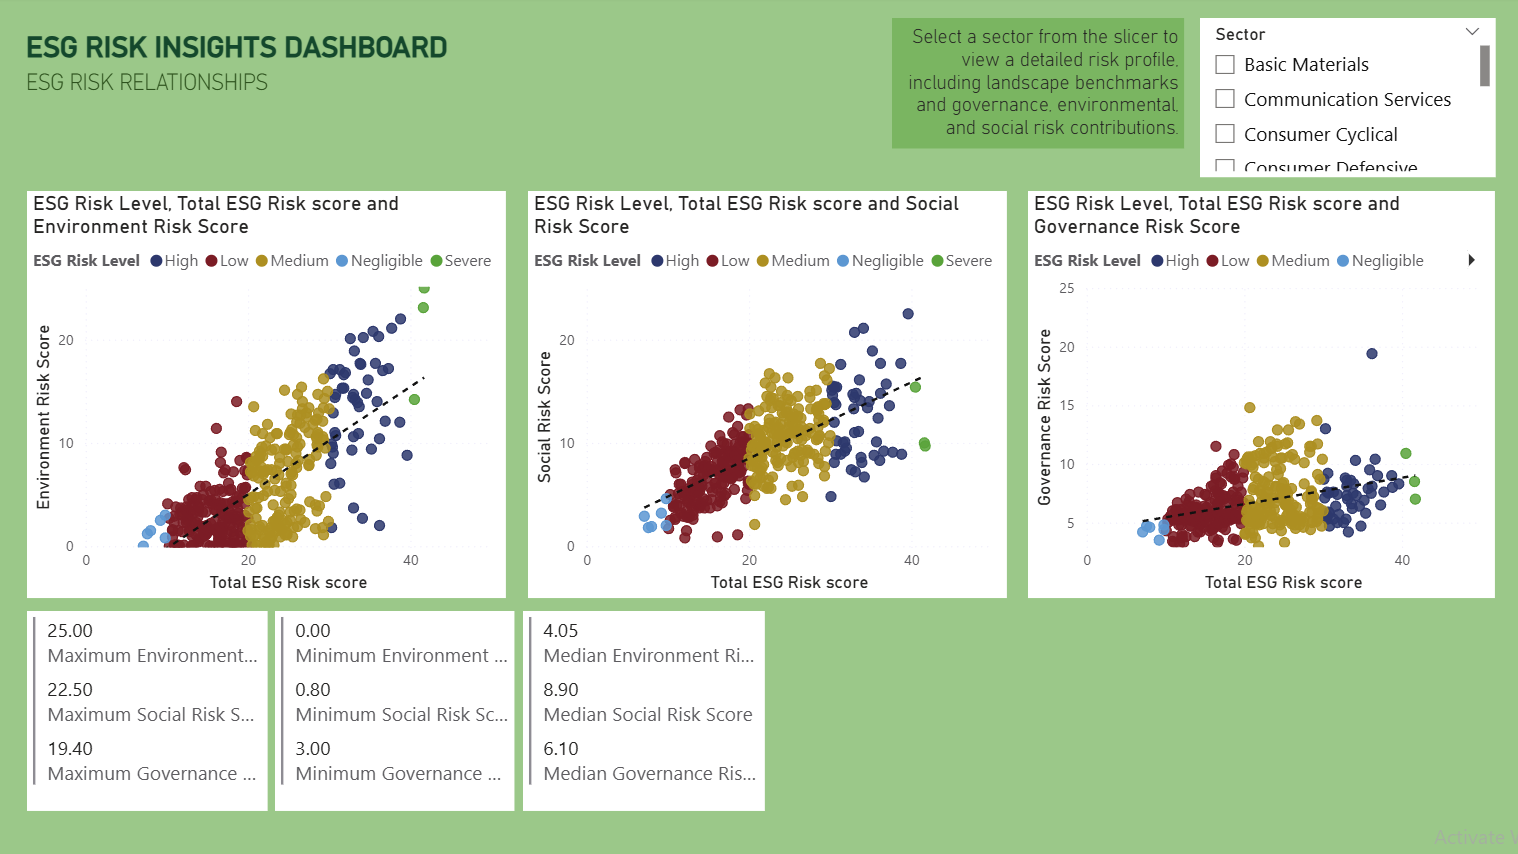

Layout of this report page (visuals, bound fields, positions):
{"tool":"powerbi","page":{"name":"ESG Risk Relationships","canvas":[1280,720],"ordinal":5},"visuals":[{"type":"scatterChart","fields":{"X":["SP 500 ESG Risk Ratings.Total ESG Risk score"],"Y":["SP 500 ESG Risk Ratings.Environment Risk Score"],"Series":["SP 500 ESG Risk Ratings.ESG Risk Level"]},"box":[24.5,162,400,340],"z":0},{"type":"slicer","fields":{"Values":["SP 500 ESG Risk Ratings.Sector"]},"box":[1003.7,17.2,246.6,132.5],"z":1000},{"type":"scatterChart","fields":{"X":["SP 500 ESG Risk Ratings.Total ESG Risk score"],"Y":["SP 500 ESG Risk Ratings.Governance Risk Score"],"Series":["SP 500 ESG Risk Ratings.ESG Risk Level"]},"box":[860.1,162,390.2,339.9],"z":2000},{"type":"textbox","box":[18.4,54,301.8,43.4],"z":3000,"group":"g1"},{"type":"scatterChart","fields":{"X":["SP 500 ESG Risk Ratings.Total ESG Risk score"],"Y":["SP 500 ESG Risk Ratings.Social Risk Score"],"Series":["SP 500 ESG Risk Ratings.ESG Risk Level"]},"box":[442.3,162,400,340],"z":3000},{"type":"multiRowCard","fields":{"Values":["Max(SP 500 ESG Risk Ratings.Environment Risk Score)","Max(SP 500 ESG Risk Ratings.Social Risk Score)","Max(SP 500 ESG Risk Ratings.Governance Risk Score)"]},"box":[24.3,512.9,201.3,167.1],"z":3000,"group":"g2"},{"type":"group","id":"g1","title":"Group 1","box":[18.4,54,301.8,42.9],"z":4000},{"type":"textbox","box":[18.4,23.3,1234.4,41.7],"z":5000},{"type":"multiRowCard","fields":{"Values":["Median(SP 500 ESG Risk Ratings.Environment Risk Score)","Median(SP 500 ESG Risk Ratings.Social Risk Score)","Median(SP 500 ESG Risk Ratings.Governance Risk Score)"]},"box":[438.4,512.9,201.7,167.1],"z":5000,"group":"g2"},{"type":"textbox","box":[747.1,17.1,244.3,108.6],"z":6000},{"type":"multiRowCard","fields":{"Values":["Min(SP 500 ESG Risk Ratings.Environment Risk Score)","Min(SP 500 ESG Risk Ratings.Social Risk Score)","Min(SP 500 ESG Risk Ratings.Governance Risk Score)"]},"box":[231.7,512.9,200.5,167.1],"z":6000,"group":"g2"},{"type":"group","id":"g2","title":"Group 2","box":[24.3,512.9,615.7,167.1],"z":7000}]}

Visuals, with their boxes in screenshot pixels (x1, y1, x2, y2), scaled from the page's 1280x720 canvas onto the 1518x854 screenshot:
scatterChart - SP 500 ESG Risk Ratings.Total ESG Risk score x SP 500 ESG Risk Ratings.Environment Risk Score: 29/192/503/595
slicer - SP 500 ESG Risk Ratings.Sector: 1190/20/1483/178
scatterChart - SP 500 ESG Risk Ratings.Total ESG Risk score x SP 500 ESG Risk Ratings.Governance Risk Score: 1020/192/1483/595
textbox: 22/64/380/116
scatterChart - SP 500 ESG Risk Ratings.Total ESG Risk score x SP 500 ESG Risk Ratings.Social Risk Score: 525/192/999/595
multiRowCard - Max(SP 500 ESG Risk Ratings.Environment Risk Score) x Max(SP 500 ESG Risk Ratings.Social Risk Score): 29/608/268/807
"Group 1" group: 22/64/380/115
textbox: 22/28/1486/77
multiRowCard - Median(SP 500 ESG Risk Ratings.Environment Risk Score) x Median(SP 500 ESG Risk Ratings.Social Risk Score): 520/608/759/807
textbox: 886/20/1176/149
multiRowCard - Min(SP 500 ESG Risk Ratings.Environment Risk Score) x Min(SP 500 ESG Risk Ratings.Social Risk Score): 275/608/513/807
"Group 2" group: 29/608/759/807
